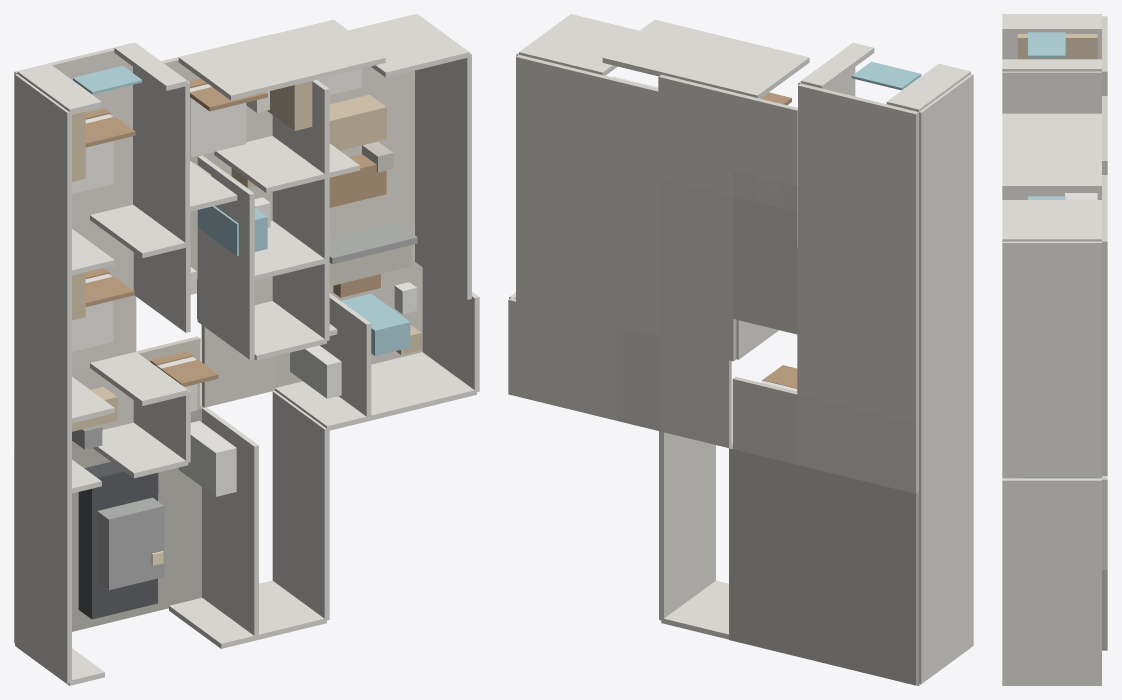
The model's file is modern_minimalist_house.glb.
3 renders of one model, left to right at view 1: azimuth 30°, elevation 25°; view 2: azimuth 150°, elevation 25°; view 3: azimuth 270°, elevation 25°, orthographic. The views are drawn at different scales.
Visible parts, largest first — view 1: Outer_right_high, Outer_left_mid, Outer_extension_right, Outer_left_low, Outer_left_high, Outer_garage_right, Outer_top_mid, Outer_upper_step, Floor_Garage, Floor_Living / dining, Outer_bottom_right, Car_body (+52 smaller); view 2: Floor_Garage, Floor_Living / dining, Floor_Room D, Floor_Room C, Floor_Room E, Outer_left_mid, Outer_left_low, Floor_Room J, Floor_Hall / storage, Outer_extension_right, Outer_left_high, Outer_top_mid (+12 smaller); view 3: Outer_right_high, Outer_extension_right, Outer_right_low, Outer_top_mid, Outer_upper_step, Outer_top_right, Outer_top_left, Floor_Living / dining, Outer_top_left2, Wardrobe_roomD, Window_top_D, P_living_divider (+8 smaller).
Boxes of the visible parts, left/top/right/bottom form: Outer_right_high: left=415, top=52, right=471, bottom=299; Outer_left_mid: left=15, top=236, right=71, bottom=492; Outer_extension_right: left=272, top=390, right=329, bottom=620; Outer_left_low: left=15, top=454, right=71, bottom=683; Outer_left_high: left=15, top=74, right=71, bottom=273; Outer_garage_right: left=202, top=407, right=258, bottom=637; Outer_top_mid: left=178, top=19, right=385, bottom=100; Outer_upper_step: left=133, top=67, right=189, bottom=244; Floor_Garage: left=14, top=405, right=204, bottom=642; Floor_Living / dining: left=329, top=14, right=414, bottom=262; Outer_bottom_right: left=275, top=352, right=476, bottom=431; Car_body: left=78, top=462, right=157, bottom=619; Floor_Garage: left=729, top=446, right=918, bottom=685; Floor_Living / dining: left=516, top=55, right=658, bottom=336; Floor_Room D: left=798, top=83, right=918, bottom=275; Floor_Room C: left=797, top=246, right=918, bottom=423; Floor_Room E: left=658, top=74, right=797, bottom=211; Outer_left_mid: left=919, top=236, right=973, bottom=492; Outer_left_low: left=919, top=454, right=973, bottom=683; Floor_Room J: left=508, top=297, right=616, bottom=420; Floor_Hall / storage: left=733, top=171, right=797, bottom=334; Outer_extension_right: left=659, top=431, right=715, bottom=620; Outer_left_high: left=919, top=74, right=973, bottom=273; Outer_top_mid: left=602, top=19, right=809, bottom=98; Outer_right_high: left=1002, top=241, right=1101, bottom=477; Outer_extension_right: left=1002, top=572, right=1101, bottom=684; Outer_right_low: left=1002, top=478, right=1101, bottom=571; Outer_top_mid: left=1002, top=113, right=1101, bottom=190; Outer_upper_step: left=1002, top=71, right=1101, bottom=113; Outer_top_right: left=1002, top=200, right=1101, bottom=241; Outer_top_left: left=1002, top=14, right=1101, bottom=33; Floor_Living / dining: left=1102, top=175, right=1107, bottom=475; Outer_top_left2: left=1002, top=59, right=1101, bottom=71; Wardrobe_roomD: left=1017, top=34, right=1097, bottom=59; Window_top_D: left=1028, top=32, right=1065, bottom=57; P_living_divider: left=1002, top=190, right=1101, bottom=199.
Size of the model in its own units: 12.78 by 17.07 by 2.96.
